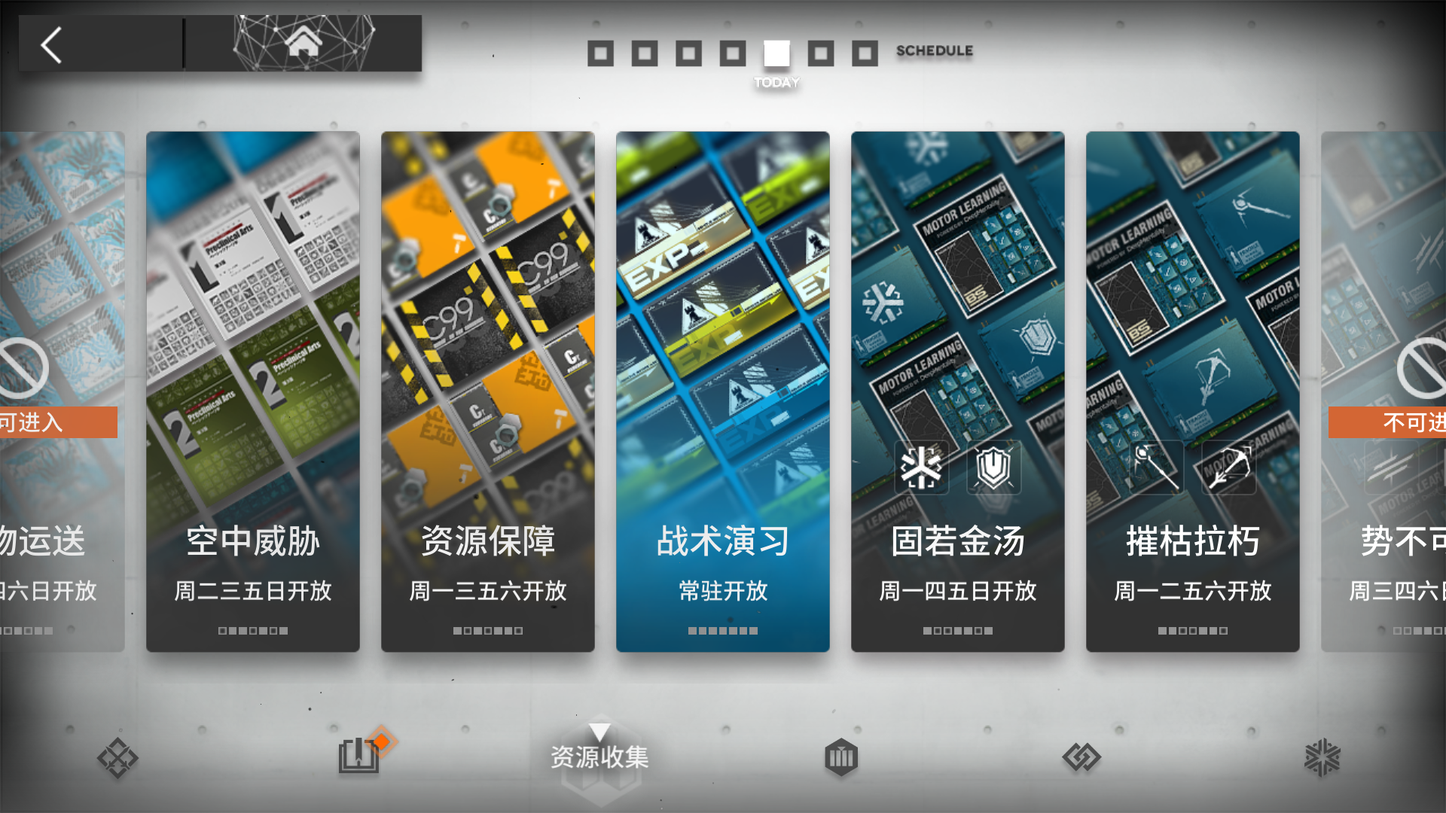Return_Button: (25, 16, 140, 68)
tactical_maneuver_button: (616, 125, 820, 640)
